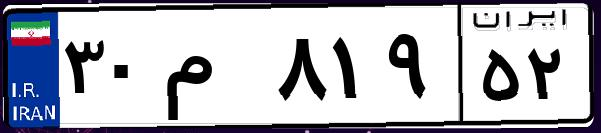0: (110, 28, 158, 98)
1: (330, 28, 385, 110)
2: (525, 38, 570, 115)
3: (57, 26, 110, 100)
5: (475, 38, 525, 113)
8: (270, 28, 330, 110)
9: (385, 28, 445, 110)
م: (158, 20, 270, 120)
